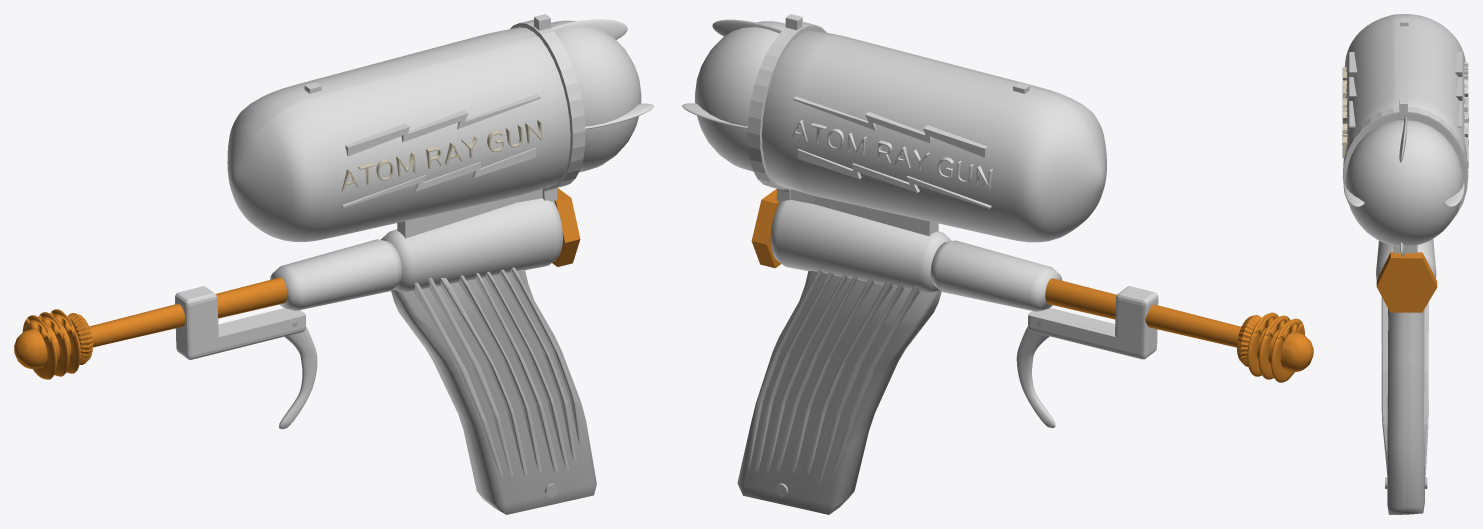
File: Atom Ray Gun Model.fbx
The picture shows the model from 3 angles, left to right: view 1: azimuth 30°, elevation 25°; view 2: azimuth 150°, elevation 25°; view 3: azimuth 270°, elevation 25°; orthographic projection. The views are drawn at different scales.
Visible parts, largest first — view 1: Cylinder, Handle, Pipe Base, Back Sphere, Trigger Holder, Pipe Front, Backplate, Lightning, Text, Cube, Lightning.001, Trigger (+14 smaller); view 2: Cylinder, Handle, Pipe Base, Back Sphere, Trigger Holder, Pipe Front, Backplate, Lightning.002, Cube, Text.001, Lightning.003, Trigger (+13 smaller); view 3: Back Sphere, Cylinder, Handle, End Bolt, Backplate, Cube.001, Pipe Base, Lightning, Text, Lightning.002, Text.001, Wing top (+2 smaller).
Part boxes in pixels (bbox=[...]): Cylinder: bbox=[227, 27, 570, 241]; Handle: bbox=[391, 270, 596, 514]; Pipe Base: bbox=[270, 198, 562, 310]; Back Sphere: bbox=[551, 20, 641, 172]; Trigger Holder: bbox=[175, 286, 305, 359]; Pipe Front: bbox=[89, 277, 287, 347]; Backplate: bbox=[510, 20, 585, 261]; Lightning: bbox=[345, 94, 540, 156]; Text: bbox=[342, 119, 542, 191]; Cube: bbox=[397, 189, 542, 238]; Lightning.001: bbox=[341, 148, 536, 207]; Trigger: bbox=[279, 327, 317, 429]; Cylinder: bbox=[762, 30, 1106, 242]; Handle: bbox=[737, 271, 941, 514]; Pipe Base: bbox=[770, 199, 1062, 311]; Back Sphere: bbox=[695, 21, 785, 171]; Trigger Holder: bbox=[1028, 286, 1158, 359]; Pipe Front: bbox=[1045, 278, 1241, 347]; Backplate: bbox=[747, 21, 826, 202]; Lightning.002: bbox=[793, 96, 987, 157]; Cube: bbox=[790, 189, 938, 236]; Text.001: bbox=[791, 120, 992, 188]; Lightning.003: bbox=[797, 149, 991, 208]; Trigger: bbox=[1016, 326, 1055, 428]; Back Sphere: bbox=[1345, 120, 1463, 246]; Cylinder: bbox=[1344, 14, 1466, 157]; Handle: bbox=[1387, 308, 1424, 514]; End Bolt: bbox=[1376, 252, 1437, 312]; Backplate: bbox=[1342, 106, 1468, 253]; Cube.001: bbox=[1381, 297, 1428, 486]; Pipe Base: bbox=[1376, 239, 1436, 280]; Lightning: bbox=[1349, 52, 1357, 127]; Text: bbox=[1342, 67, 1347, 157]; Lightning.002: bbox=[1455, 52, 1462, 127]; Text.001: bbox=[1464, 62, 1468, 156]; Wing top: bbox=[1399, 116, 1407, 162].
Size of the model in its own units: 878 by 660 by 190.
